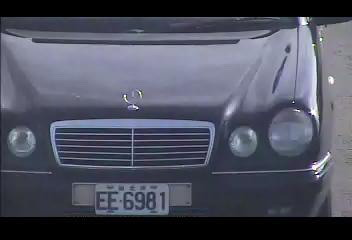plate: (94, 182, 170, 216)
